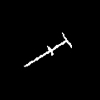double_crochet: (25, 33, 71, 65)
